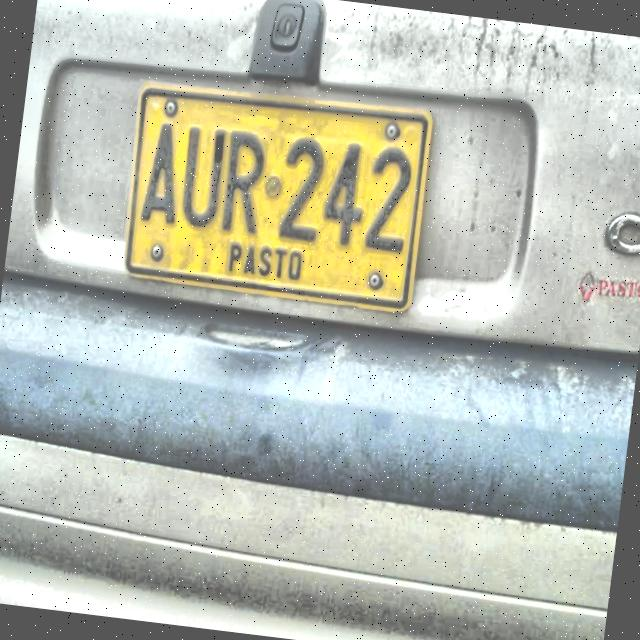plate: (129, 87, 425, 308)
